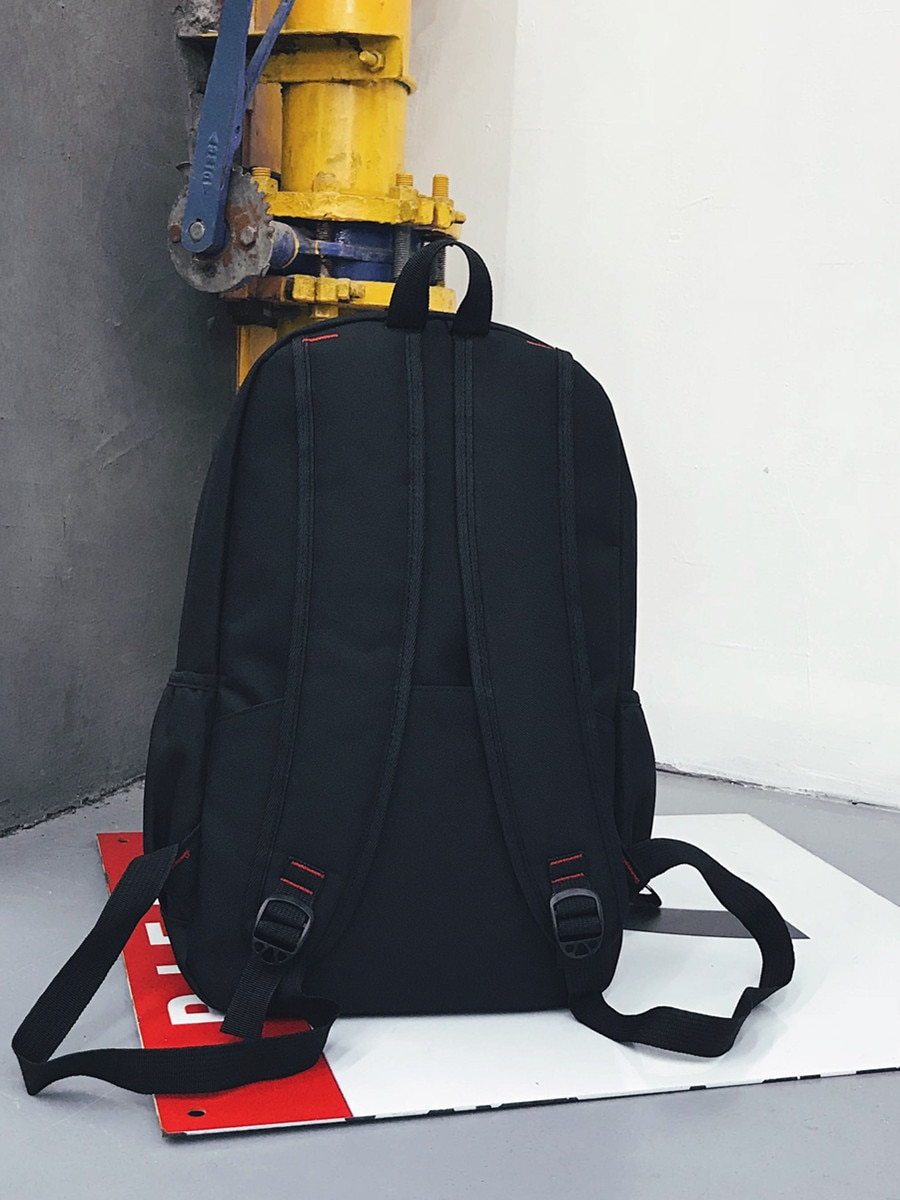Men's Backpacks: (8, 232, 792, 1103)
